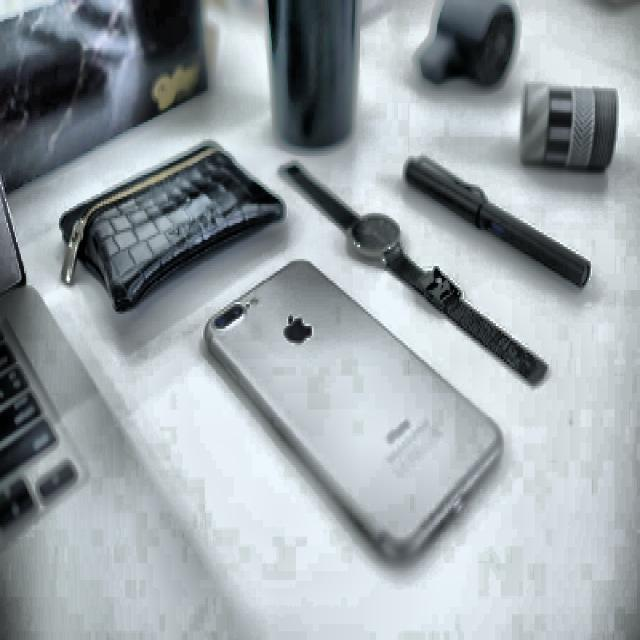Phone: (200, 254, 508, 576)
